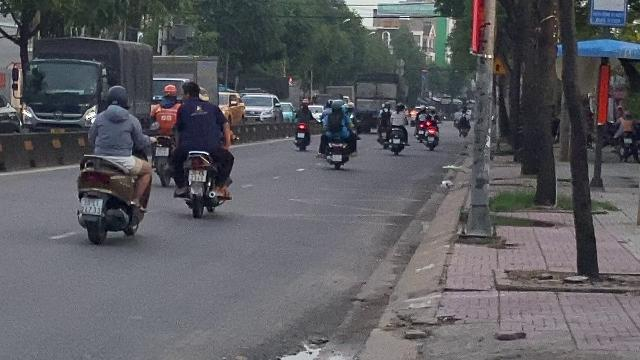helmet: (104, 84, 128, 109), (162, 83, 178, 101), (197, 80, 210, 100)
licenseplate: (80, 198, 102, 214), (189, 170, 205, 180)
motorcyclist: (72, 84, 154, 244), (168, 78, 236, 218)
nohelmet: (181, 80, 201, 100)
